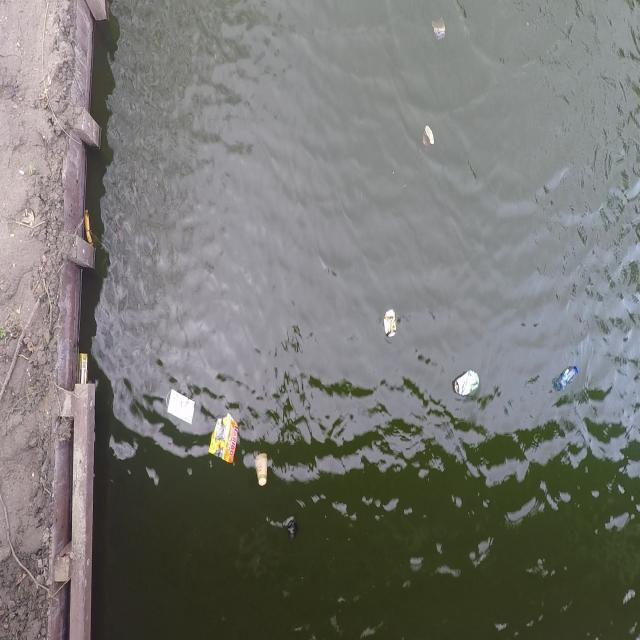Autre plastique: (208, 412, 244, 474)
Bouteille plastique: (550, 358, 581, 397)
Non plastique: (160, 377, 198, 431), (450, 364, 483, 405), (381, 299, 400, 350), (252, 450, 272, 495), (420, 119, 440, 156), (430, 14, 450, 43)
